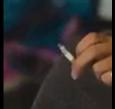Cigarette: (58, 45, 74, 64)
